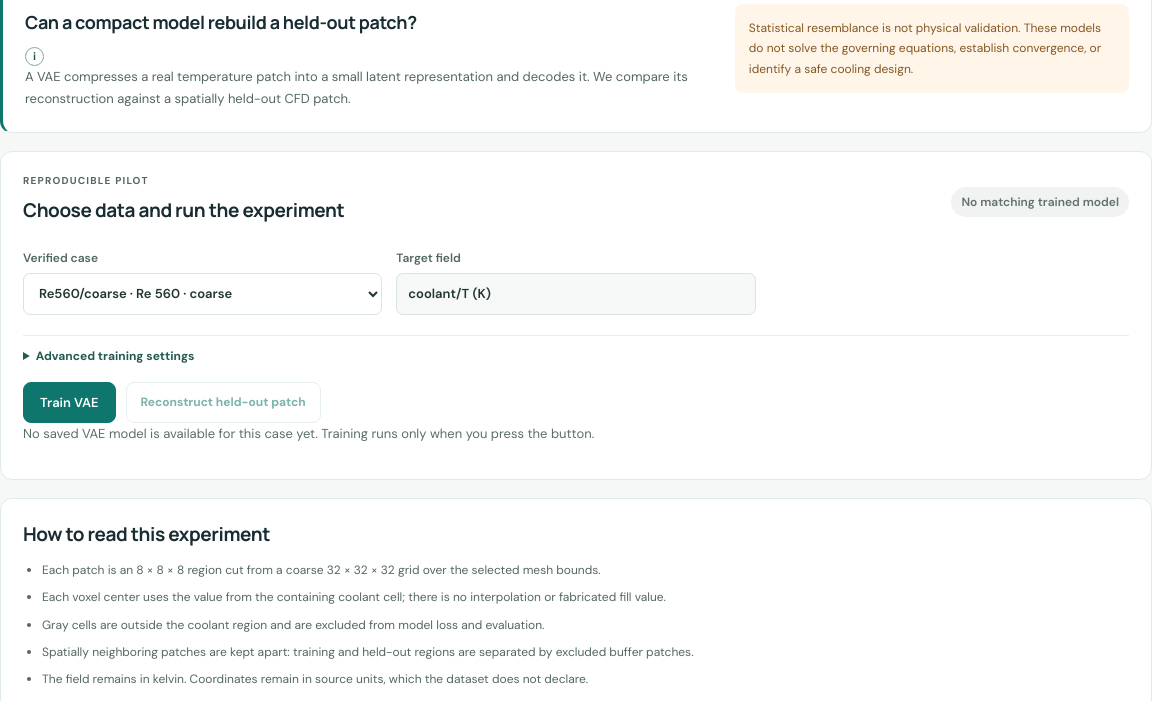
Test: GenerativeAiLab › shows training and inference API failures without producing a result
This screenshot has width=1152, height=701.
(page scrolled)
Click the button "Train VAE" at (69, 402), box [23,382,116,423]
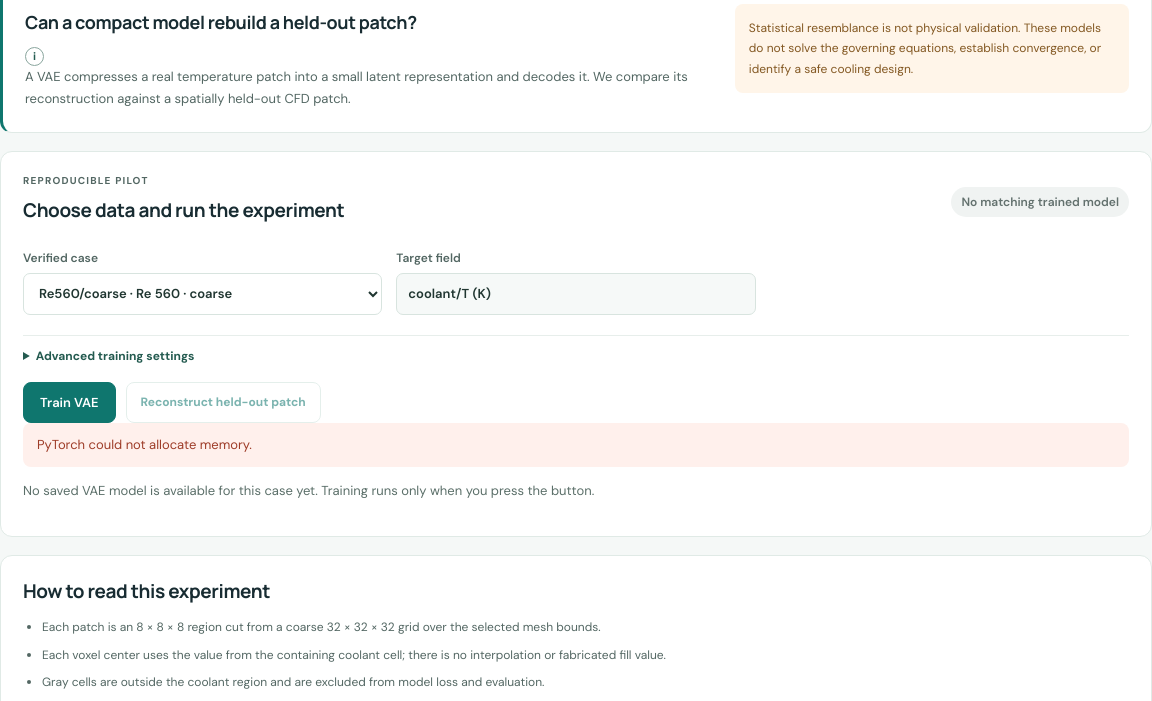
Expected: the message reads "PyTorch could not allocate memory.", [37,436,252,453]
